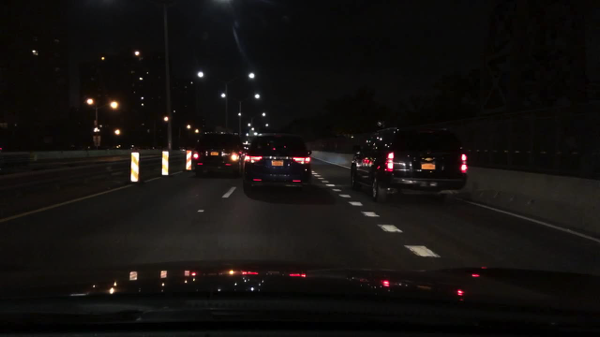car: (348, 125, 468, 202), (241, 132, 313, 197), (191, 131, 244, 178), (129, 144, 139, 151), (113, 144, 122, 150), (181, 147, 186, 152)
traffic sign: (92, 135, 101, 146)
